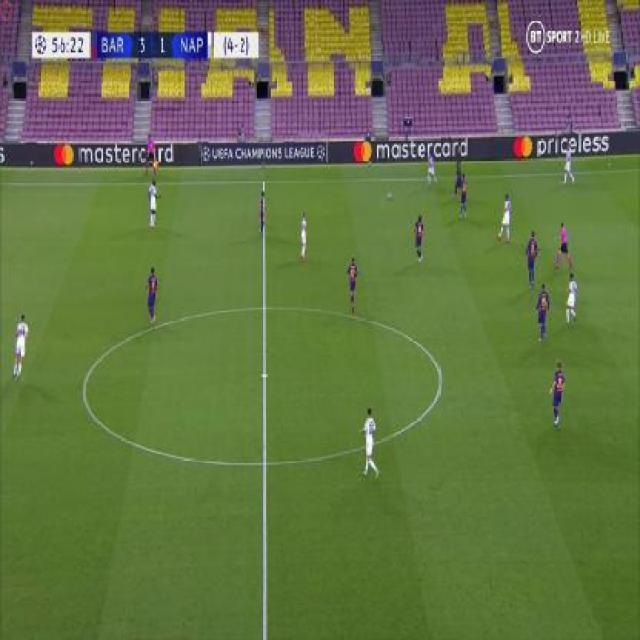ball: (388, 190, 393, 199)
player: (358, 403, 380, 479), (11, 311, 30, 382), (547, 358, 566, 427), (533, 280, 550, 343), (554, 219, 573, 272), (523, 230, 540, 289), (144, 264, 160, 326), (345, 253, 361, 312), (496, 191, 513, 244), (564, 270, 580, 324), (146, 178, 163, 227), (413, 210, 427, 264), (144, 132, 158, 177), (299, 208, 310, 261), (562, 146, 576, 185), (458, 171, 469, 219), (257, 186, 266, 237), (425, 152, 438, 186), (452, 159, 463, 198)
